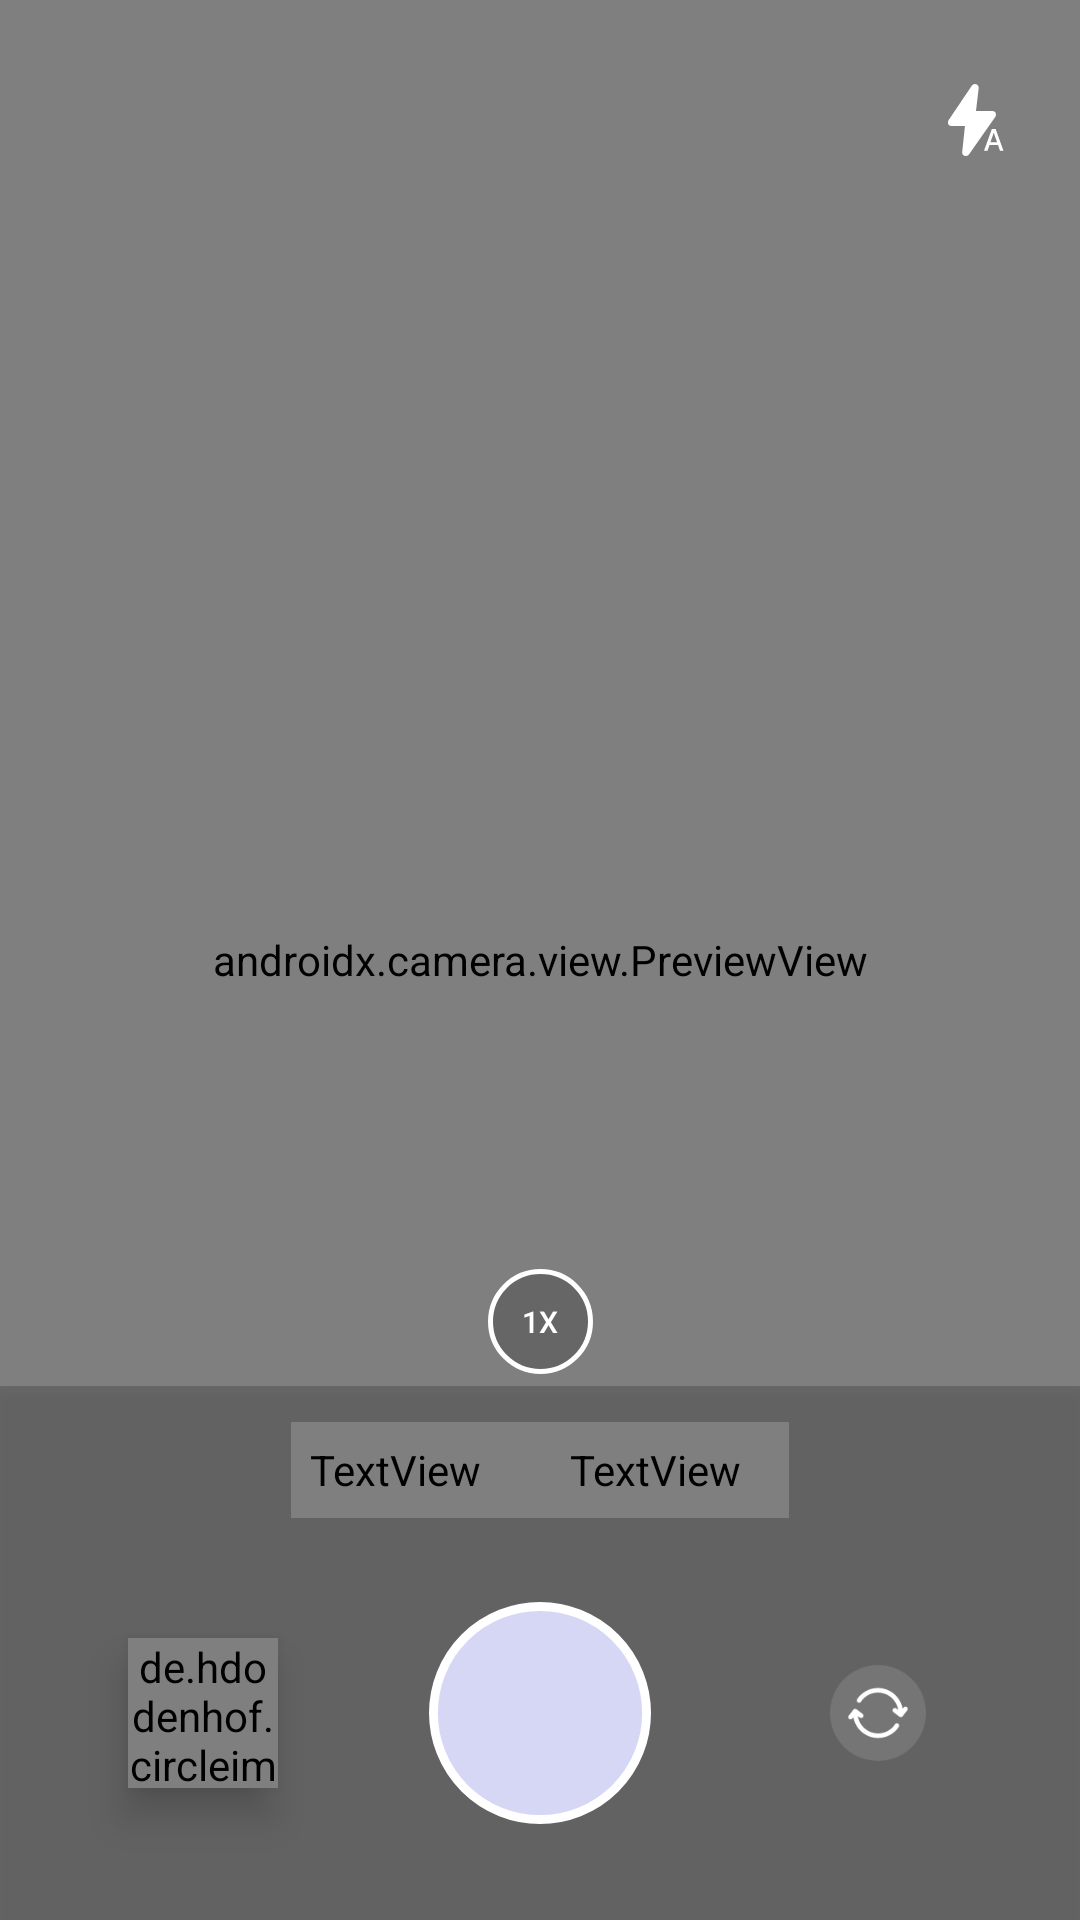

Icons on this 1080 × 1920 Android screen, each with its box as box(x1, y1, x2, y2):
camera switch: box(830, 1665, 926, 1761)
flash auto: box(948, 84, 1004, 156)
shutter: box(429, 1602, 651, 1824)
